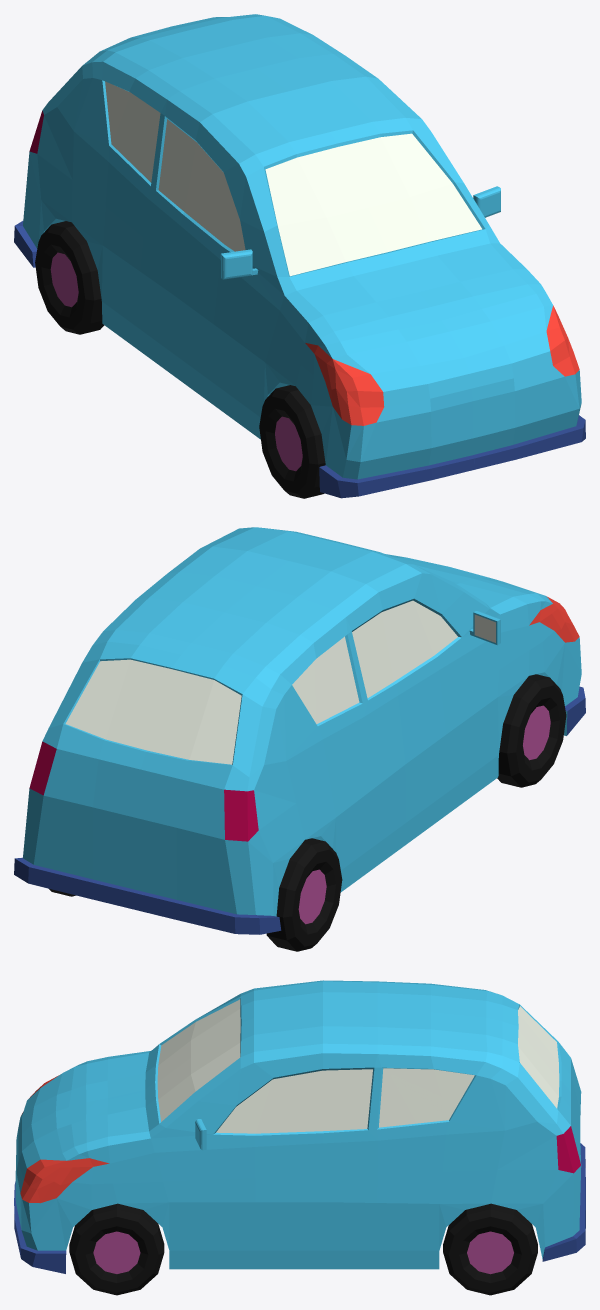
The model's file is car2.glb.
3 renders of one model, top to bottom at view 1: azimuth 30°, elevation 25°; view 2: azimuth 150°, elevation 25°; view 3: azimuth 270°, elevation 25°, orthographic. The views are drawn at different scales.
Parts seen in each view (by area): view 1: body.006, tire2.005, tire1.007; view 2: body.006, tire2.005, tire1.007; view 3: body.006, tire1.007, tire2.005.
Boxes of the visible parts, left/top/right/bottom form: body.006: left=14, top=14, right=585, bottom=498; tire2.005: left=35, top=221, right=104, bottom=334; tire1.007: left=259, top=385, right=325, bottom=498; body.006: left=14, top=527, right=585, bottom=934; tire2.005: left=49, top=838, right=342, bottom=951; tire1.007: left=497, top=674, right=566, bottom=787; body.006: left=14, top=980, right=585, bottom=1273; tire1.007: left=69, top=1203, right=164, bottom=1295; tire2.005: left=443, top=1203, right=537, bottom=1295.
Size of the model in its own units: 1.98 by 1.93 by 4.24.
